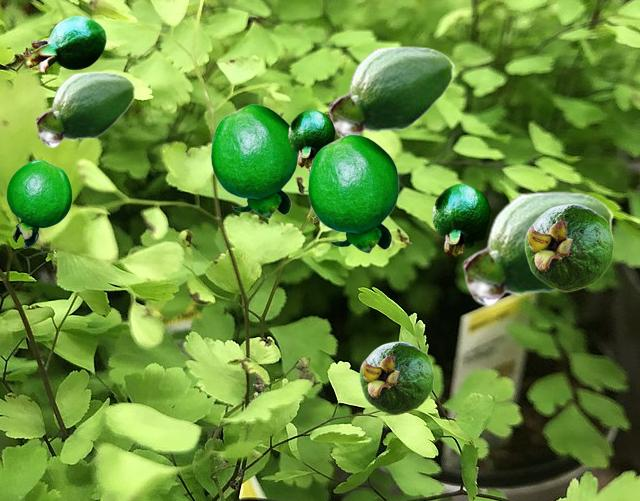guava: (462, 190, 613, 306), (328, 45, 454, 138), (307, 134, 398, 252), (210, 104, 297, 217), (524, 203, 613, 291), (35, 71, 135, 147), (6, 159, 71, 247), (359, 341, 433, 414), (24, 15, 105, 73), (432, 183, 490, 256), (288, 109, 334, 167)
